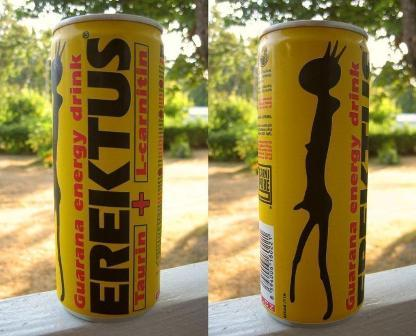Can: (256, 18, 372, 328), (51, 11, 165, 325)
